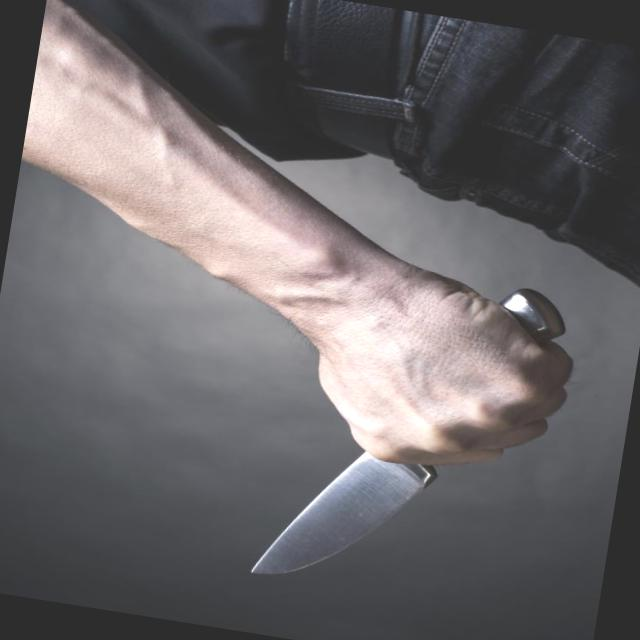knife: (232, 350, 544, 624)
